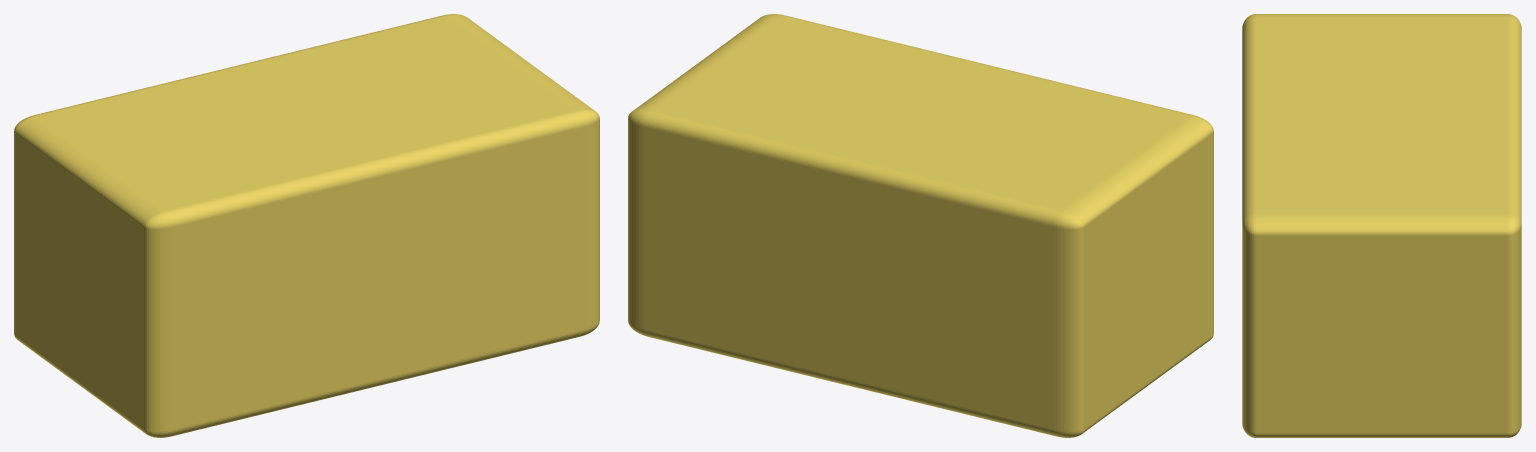
The model's file is butter.fbx.
3 views of the same model, side by side, from view 1: azimuth 30°, elevation 25°; view 2: azimuth 150°, elevation 25°; view 3: azimuth 270°, elevation 25° (orthographic). The views are drawn at different scales.
Visible parts, largest first — view 1: Cube; view 2: Cube; view 3: Cube.
Boxes of the visible parts, x1,y1,x2,y2 form: Cube: (14, 14, 599, 437); Cube: (628, 14, 1213, 437); Cube: (1242, 14, 1521, 437).
Bounding box in the file's own units: 423 × 200 × 230.
